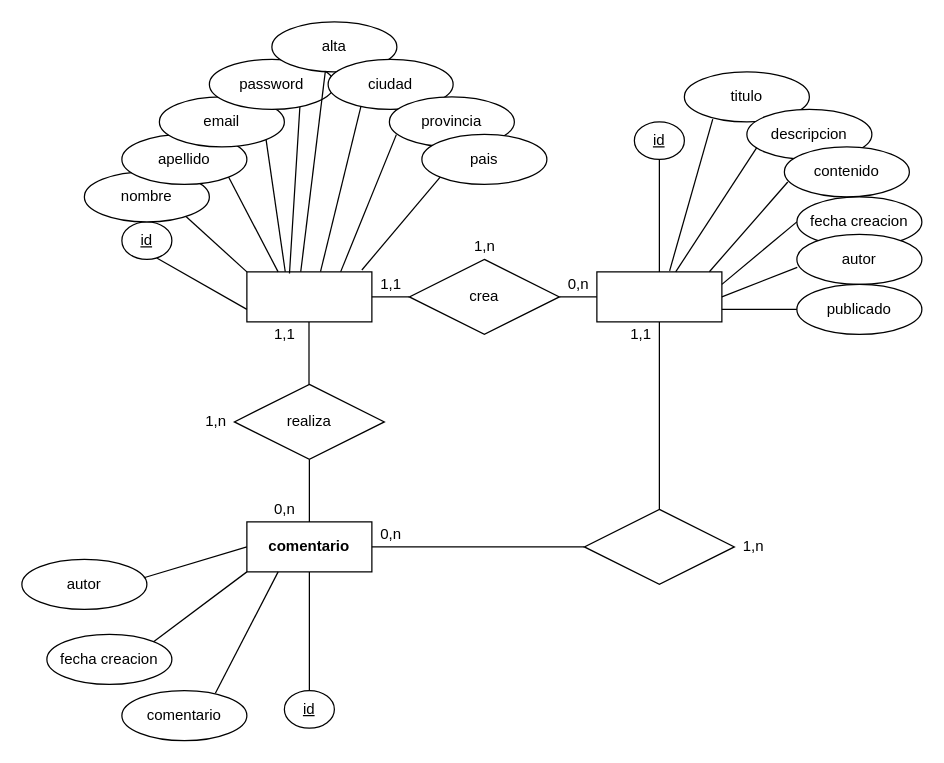
Some shapes in this 944 by 763 pixel diagram are drawn without their labels. Here are the shapes that lost their labels. From the top down, the box of each, then its label:
(246, 271, 372, 322): usuario
(596, 271, 722, 322): post
(583, 508, 734, 584): contiene
